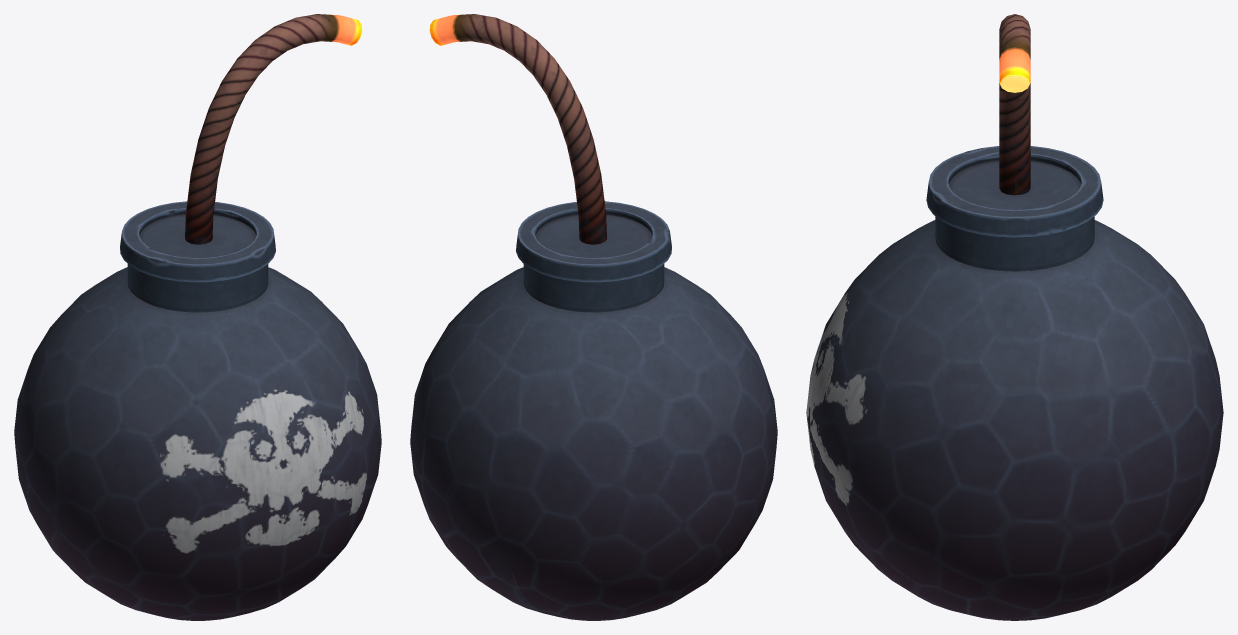
3 renders of one model, left to right at view 1: azimuth 30°, elevation 25°; view 2: azimuth 150°, elevation 25°; view 3: azimuth 270°, elevation 25°, orthographic. The views are drawn at different scales.
Parts seen in each view (by area): view 1: bomb_low, Rope_low; view 2: bomb_low, Rope_low; view 3: bomb_low, Rope_low.
Part boxes in pixels (left/top/right/bottom): bomb_low: left=14, top=201, right=381, bottom=620; Rope_low: left=185, top=14, right=362, bottom=244; bomb_low: left=410, top=201, right=777, bottom=620; Rope_low: left=429, top=14, right=606, bottom=244; bomb_low: left=806, top=146, right=1223, bottom=620; Rope_low: left=999, top=14, right=1030, bottom=195.
Size of the model in its own units: 0.0201 by 0.0336 by 0.02.
Materials: 1 (1 with a texture image).
